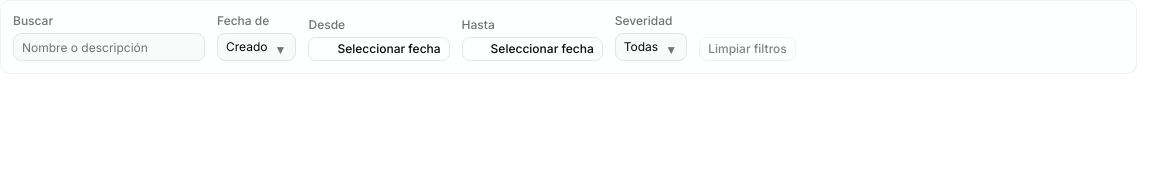
Test case: AssetFilters › renders a severity select with exactly the four real severities plus Todas
Click the dropdown named "Severidad". click: (651, 47)
box: 615,33 -> 687,61
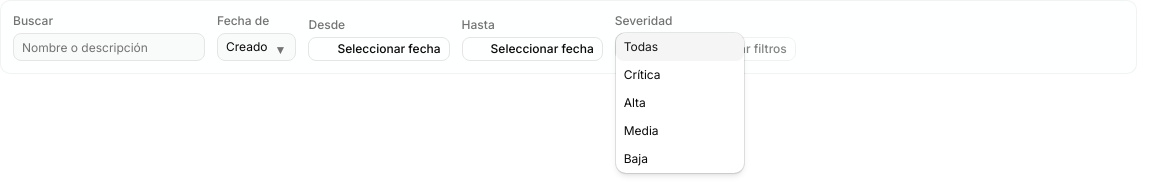
Now the options read "Todas", "Crítica", "Alta", "Media", "Baja", in this order, box 616,33 -> 744,61; 624,67 -> 661,82; 624,95 -> 646,110; 624,123 -> 658,138; 624,151 -> 648,166
